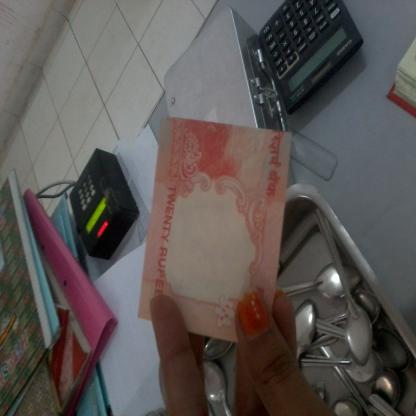Old20Back: (153, 119, 284, 341)
